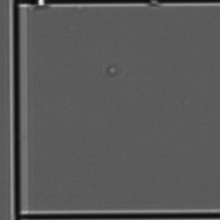Living Cell: (31, 1, 53, 11)
